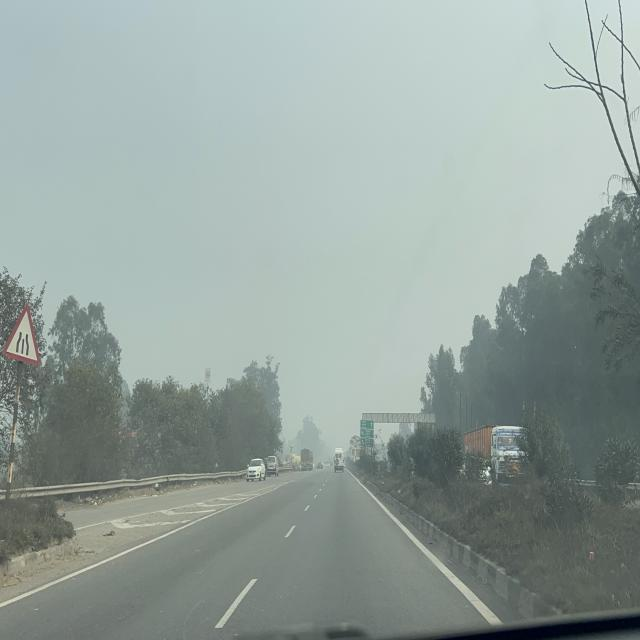GENERAL: (360, 420, 374, 448)
NARROW_ROAD_AHEAD: (4, 303, 42, 369)
